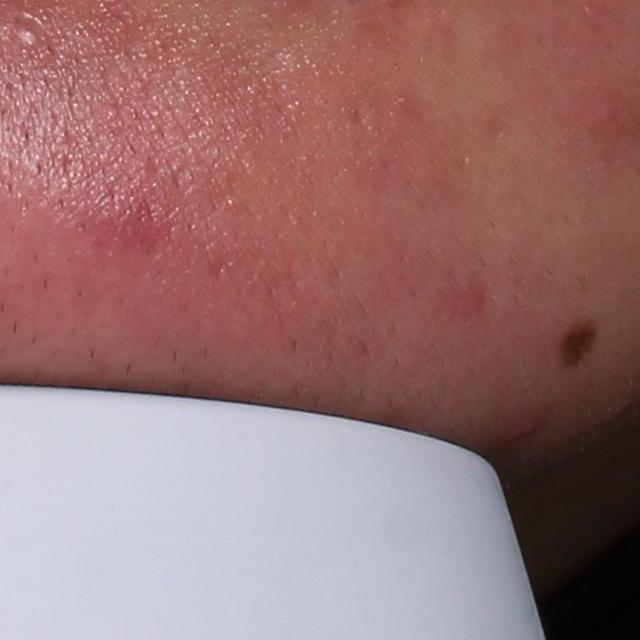nevus: (559, 312, 606, 366)
pustule: (8, 18, 44, 50)
